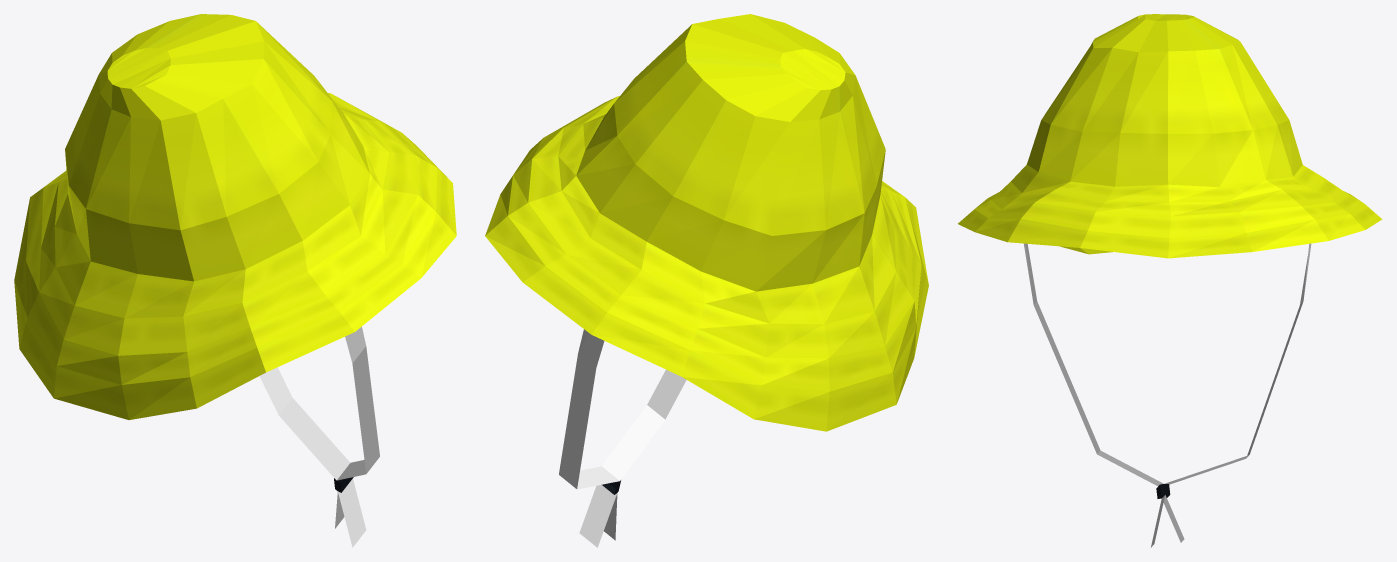
File: YELLOW RAIN HAT.fbx
The picture shows the model from 3 angles, left to right: view 1: azimuth 30°, elevation 25°; view 2: azimuth 150°, elevation 25°; view 3: azimuth 270°, elevation 25°; orthographic projection. The views are drawn at different scales.
Visible parts, largest first — view 1: YELLOW_RAIN_HAT; view 2: YELLOW_RAIN_HAT; view 3: YELLOW_RAIN_HAT.
Boxes of the visible parts, x1=… form: YELLOW_RAIN_HAT: x1=14, y1=14, x2=456, y2=547; YELLOW_RAIN_HAT: x1=485, y1=14, x2=928, y2=547; YELLOW_RAIN_HAT: x1=958, y1=14, x2=1382, y2=547.
Size of the model in its own units: 32.81 by 46.64 by 39.
